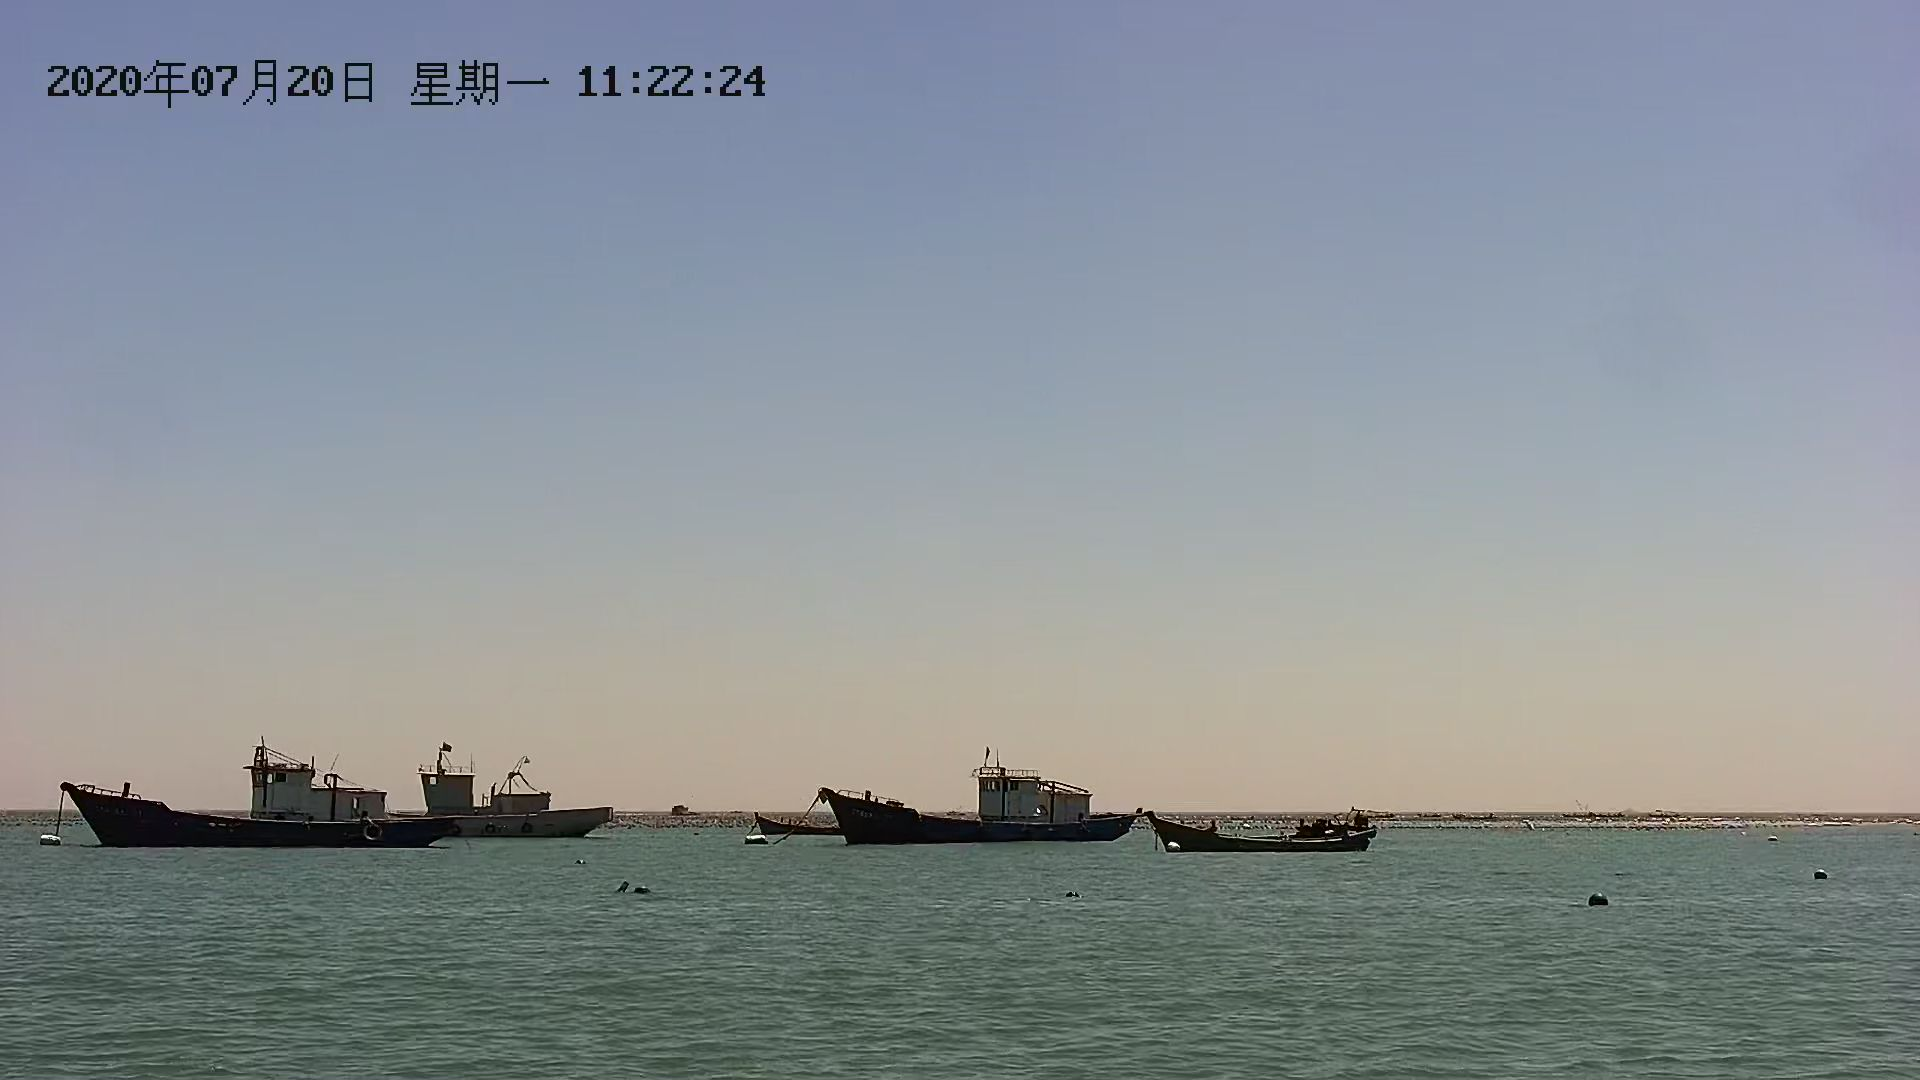ball: (632, 880, 655, 903), (1807, 866, 1840, 882), (1585, 889, 1610, 909)
boat: (38, 748, 452, 849), (825, 775, 1131, 851), (375, 771, 621, 848), (1146, 807, 1379, 865), (744, 816, 855, 843)
